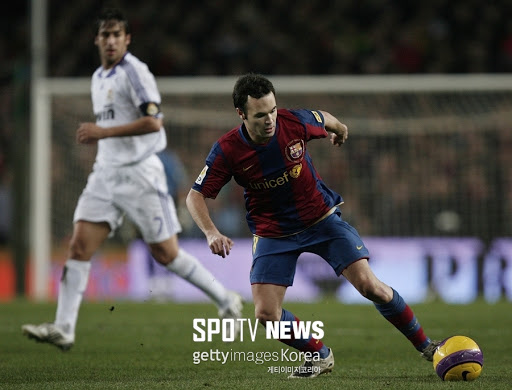barcelona: (194, 77, 479, 383)
realmadrid: (29, 12, 249, 351)
